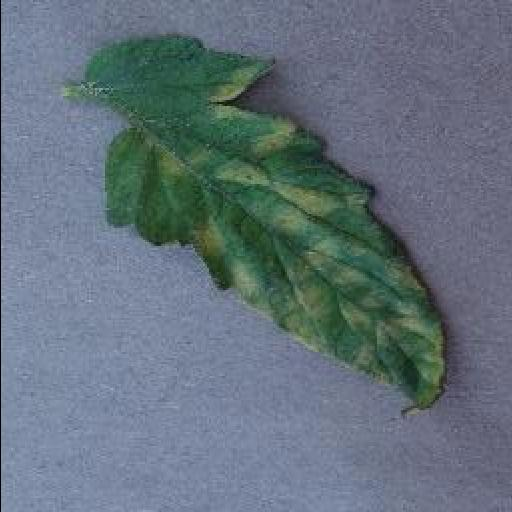disease_tomato: (85, 34, 447, 410)
